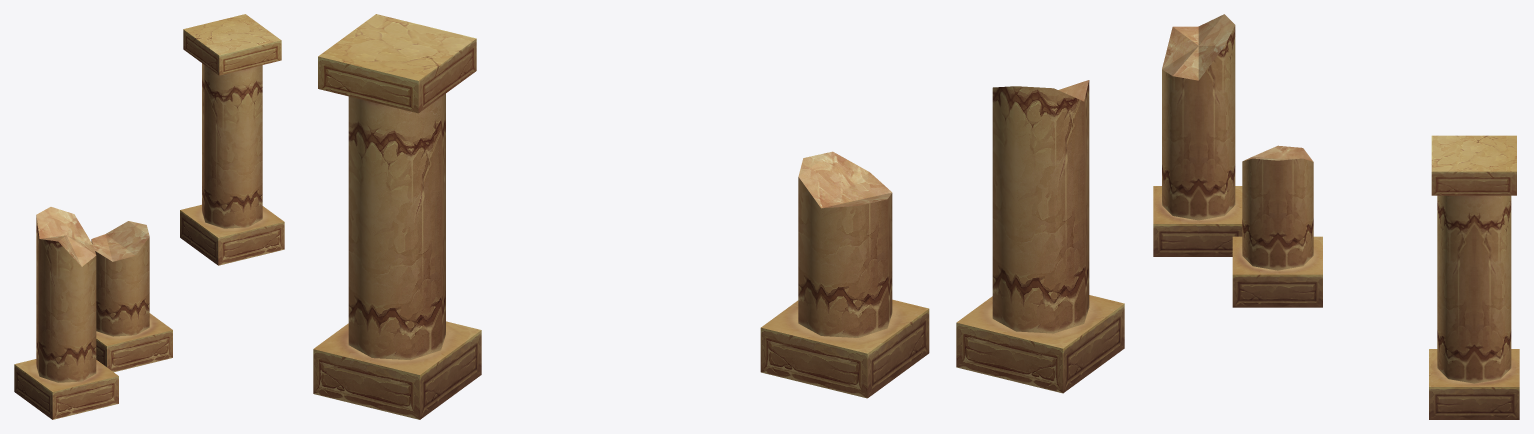
The model's file is Area_09_32.fbx.
3 renders of one model, left to right at view 1: azimuth 30°, elevation 25°; view 2: azimuth 150°, elevation 25°; view 3: azimuth 270°, elevation 25°, orthographic. The views are drawn at different scales.
Visible parts, largest first — view 1: Area_09_32; view 2: Area_09_32; view 3: Area_09_32.
Part boxes in pixels (left/top/right/bottom): Area_09_32: left=14, top=14, right=284, bottom=419; Area_09_32: left=313, top=14, right=1124, bottom=419; Area_09_32: left=1153, top=14, right=1519, bottom=419.
Size of the model in its own units: 715 by 409 by 550.
